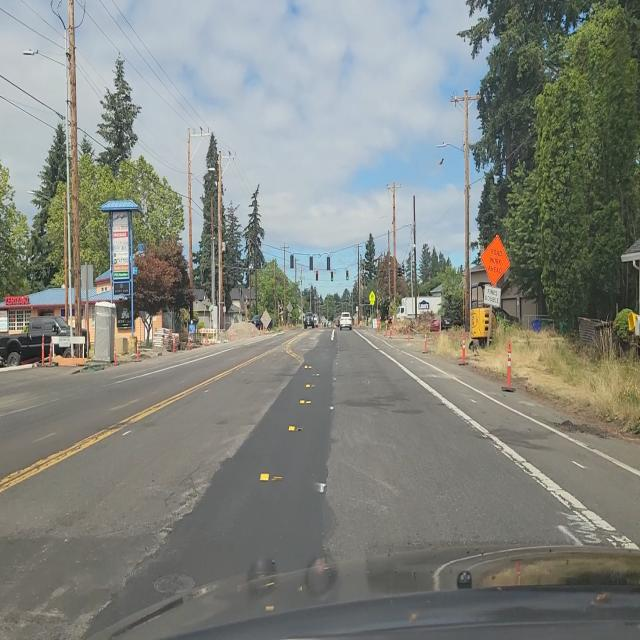car: (0, 317, 83, 369), (296, 312, 322, 330), (441, 314, 460, 331), (339, 312, 353, 331), (250, 314, 263, 329)
crosswalk-sign: (369, 291, 375, 305)
delineator: (458, 328, 468, 366), (40, 333, 46, 366), (48, 335, 54, 367), (423, 328, 428, 354), (113, 338, 118, 364), (384, 321, 390, 338), (136, 338, 140, 362), (188, 327, 192, 350), (407, 325, 411, 343), (389, 320, 393, 338), (259, 323, 264, 335), (172, 334, 175, 352), (251, 323, 255, 335), (229, 328, 233, 340), (214, 329, 217, 345), (378, 318, 381, 333), (396, 321, 399, 335)
